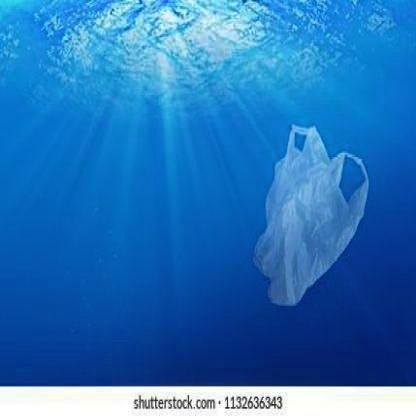pbag: (252, 125, 370, 306)
